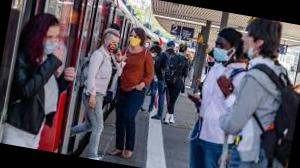mask_weared_incorrect: (237, 31, 260, 57)
with_mask: (43, 31, 61, 55), (211, 40, 232, 58), (105, 37, 120, 51), (127, 33, 142, 46), (204, 55, 216, 67), (143, 38, 152, 48), (150, 50, 157, 59)
